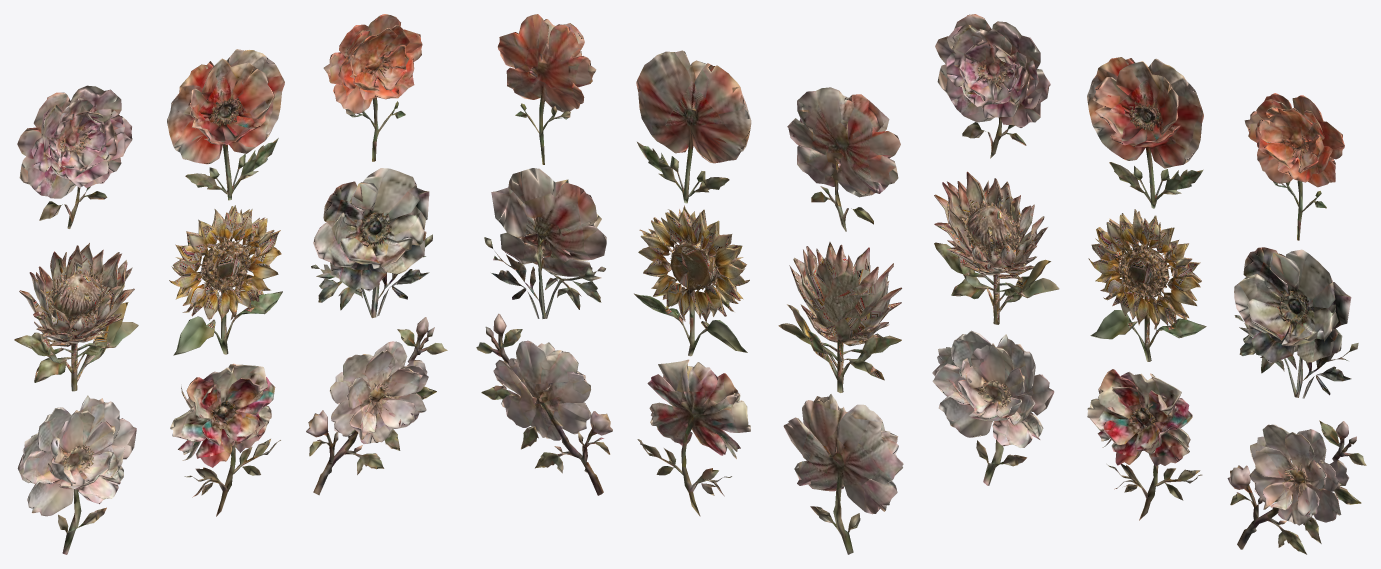
The picture shows the model from 3 angles, left to right: view 1: azimuth 30°, elevation 25°; view 2: azimuth 150°, elevation 25°; view 3: azimuth 330°, elevation 25°; orthographic projection.
Parts seen in each view (by area): view 1: Mesh 11, Mesh 4, Mesh 2, Mesh 1, Mesh 8, Mesh 5, Mesh 3, Mesh 7, Mesh 10; view 2: Mesh 11, Mesh 4, Mesh 2, Mesh 8, Mesh 3, Mesh 1, Mesh 5, Mesh 7, Mesh 10; view 3: Mesh 11, Mesh 4, Mesh 2, Mesh 1, Mesh 8, Mesh 5, Mesh 3, Mesh 7, Mesh 10.
Part boxes in pixels (bbox=[...]): Mesh 11: bbox=[311, 168, 432, 318]; Mesh 4: bbox=[167, 49, 284, 200]; Mesh 2: bbox=[17, 395, 136, 554]; Mesh 1: bbox=[14, 243, 138, 391]; Mesh 8: bbox=[306, 317, 447, 495]; Mesh 5: bbox=[169, 205, 282, 355]; Mesh 3: bbox=[17, 85, 132, 228]; Mesh 7: bbox=[170, 363, 280, 516]; Mesh 10: bbox=[323, 14, 422, 161]; Mesh 11: bbox=[484, 168, 606, 318]; Mesh 4: bbox=[636, 50, 751, 203]; Mesh 2: bbox=[783, 394, 903, 554]; Mesh 8: bbox=[476, 313, 612, 495]; Mesh 3: bbox=[787, 87, 900, 231]; Mesh 1: bbox=[778, 242, 901, 392]; Mesh 5: bbox=[634, 205, 749, 356]; Mesh 7: bbox=[637, 359, 750, 516]; Mesh 10: bbox=[497, 14, 596, 164]; Mesh 11: bbox=[1234, 247, 1358, 398]; Mesh 4: bbox=[1087, 57, 1203, 208]; Mesh 2: bbox=[932, 330, 1054, 485]; Mesh 1: bbox=[934, 171, 1059, 324]; Mesh 8: bbox=[1227, 420, 1366, 554]; Mesh 5: bbox=[1088, 209, 1206, 361]; Mesh 3: bbox=[935, 14, 1050, 158]; Mesh 7: bbox=[1087, 369, 1202, 520]; Mesh 10: bbox=[1244, 93, 1344, 240].
Bounding box in the file's own units: 1.85 × 1.92 × 0.1327.
9 materials, 9 textured.
